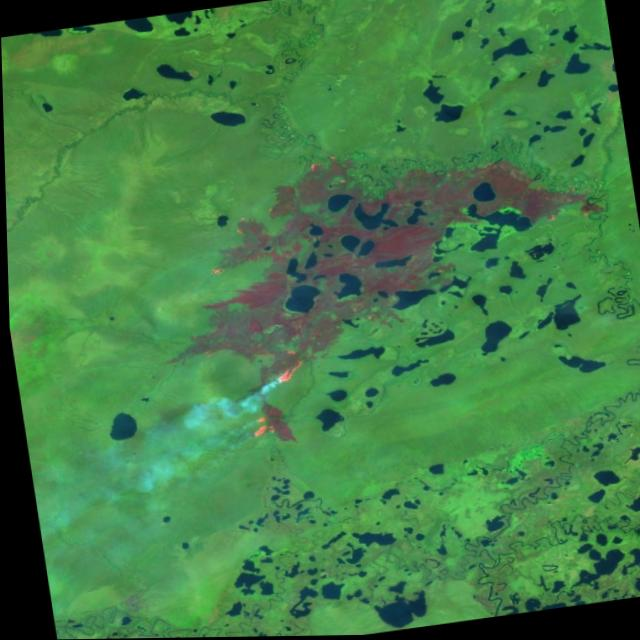fire: (225, 344, 323, 445)
